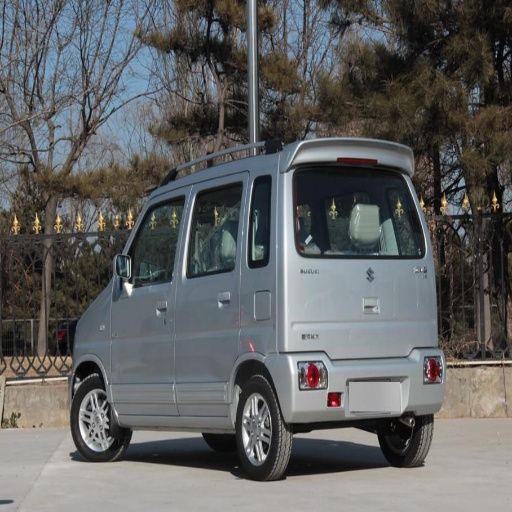back_bumper: (287, 349, 443, 425)
back_glass: (288, 165, 417, 255)
trunk: (248, 261, 433, 395)
